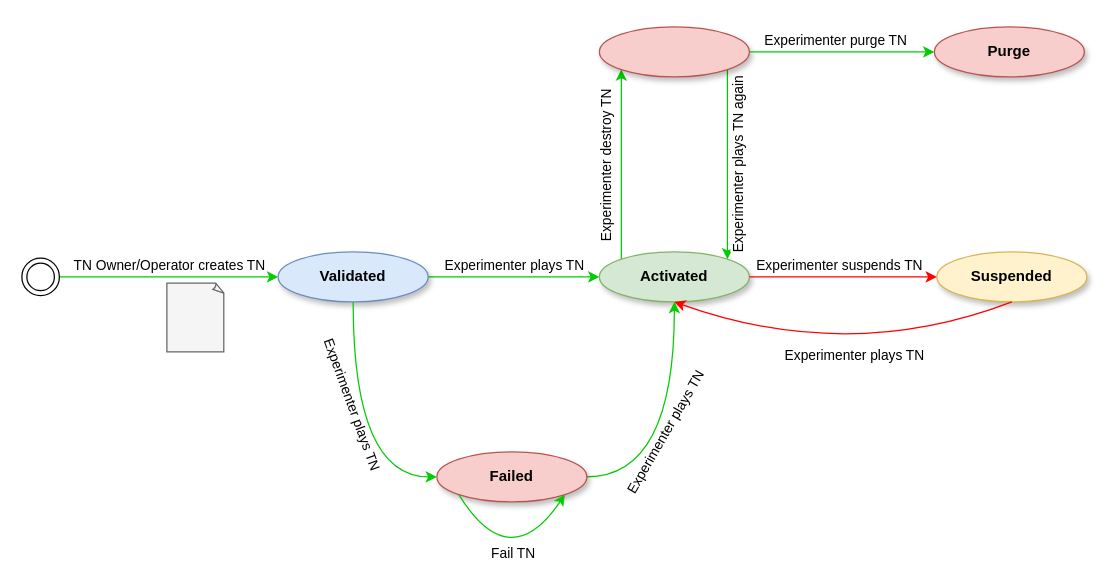
This 1116x583 diagram has some shape labels left out. Here are the shapes that lost their labels. From the top down, the centre of each, then its label:
the point at 675,53: Destroyed
the point at 195,317: TND
